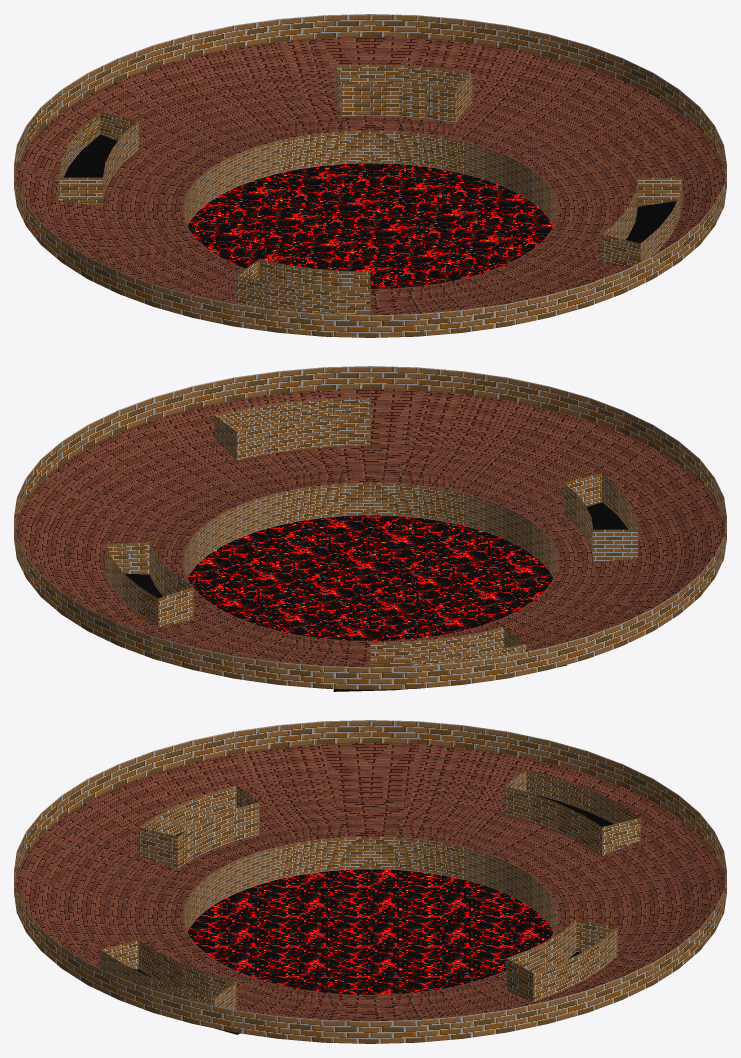
Rendered from Big Donut.fbx.
3 views of the same model, one above another, from view 1: azimuth 30°, elevation 25°; view 2: azimuth 150°, elevation 25°; view 3: azimuth 270°, elevation 25° (orthographic).
Parts seen in each view (by area): view 1: big_Donut:Mesh; view 2: big_Donut:Mesh; view 3: big_Donut:Mesh.
Part boxes in pixels (bbox=[...]): big_Donut:Mesh: bbox=[14, 14, 726, 337]; big_Donut:Mesh: bbox=[14, 366, 726, 691]; big_Donut:Mesh: bbox=[14, 720, 726, 1043].
Bounding box in the file's own units: 30 × 3.6 × 30.
Materials: 13 (6 with a texture image).
